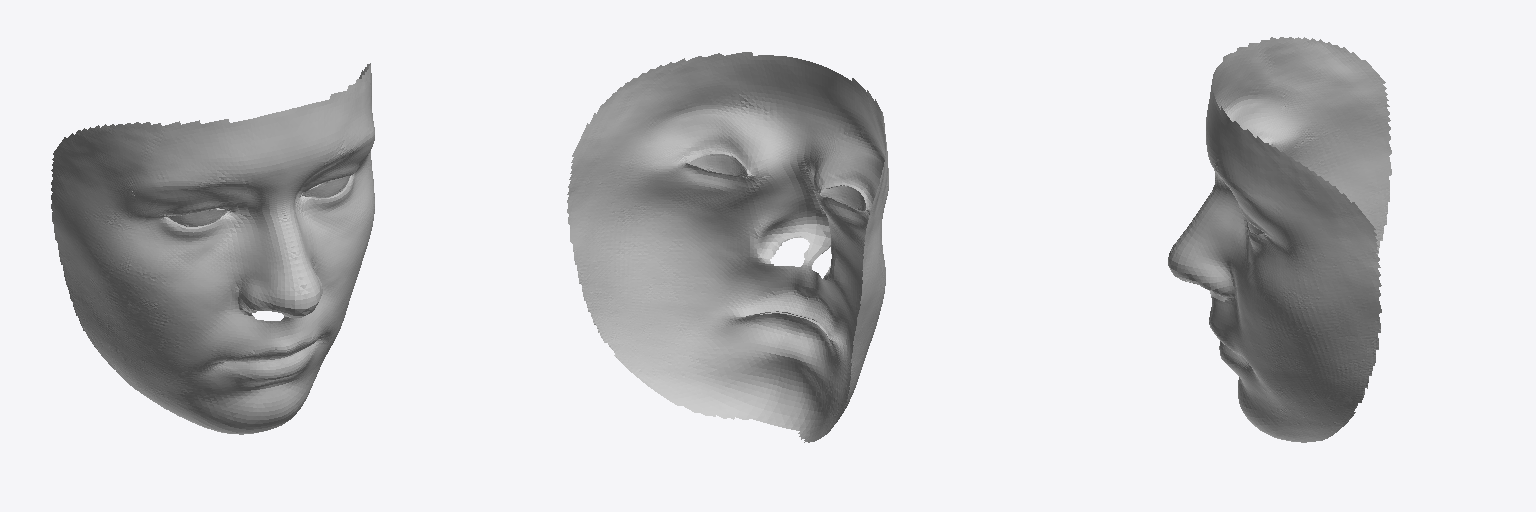
File: 345_03_01_face_valid_view3.obj
3 renders of one model, left to right at view 1: azimuth 30°, elevation 25°; view 2: azimuth 150°, elevation 25°; view 3: azimuth 270°, elevation 25°, orthographic.
Bounding box in the file's own units: 172 × 188 × 111.